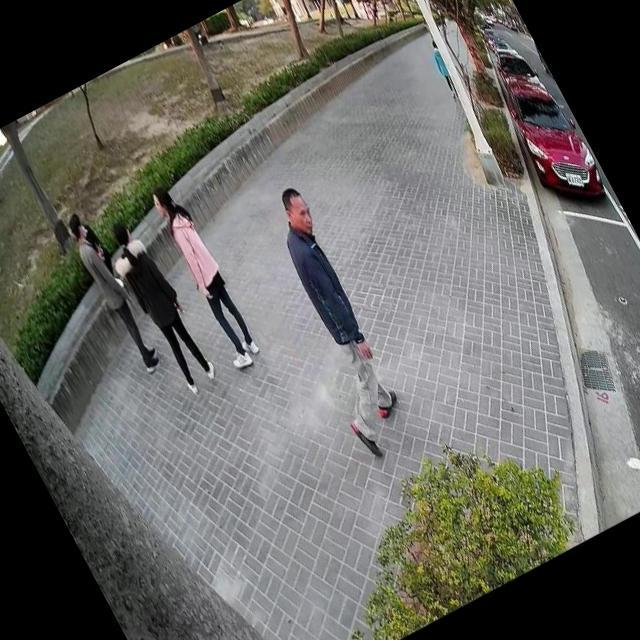person: (232, 175, 432, 465), (138, 172, 268, 372), (92, 208, 224, 402), (54, 200, 170, 380), (416, 29, 469, 109)
